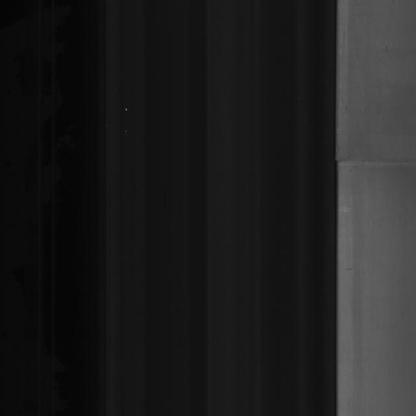welding_line: (321, 144, 410, 179)
